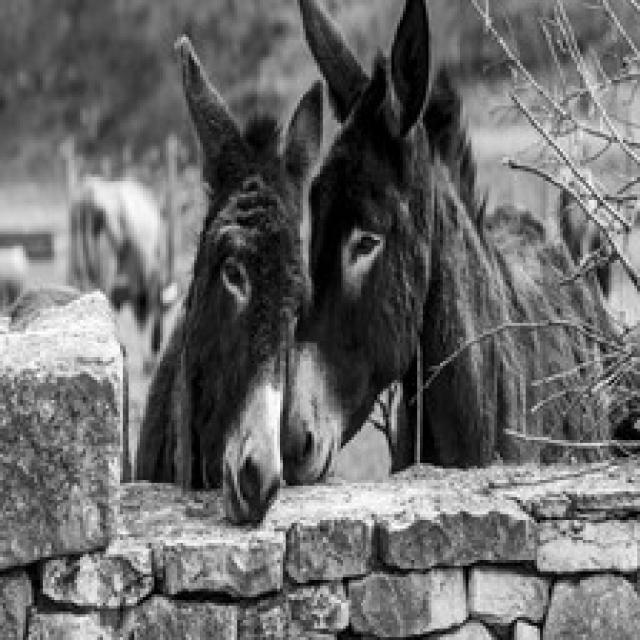Donkey: (280, 0, 614, 477), (131, 31, 326, 526), (557, 177, 637, 457)
